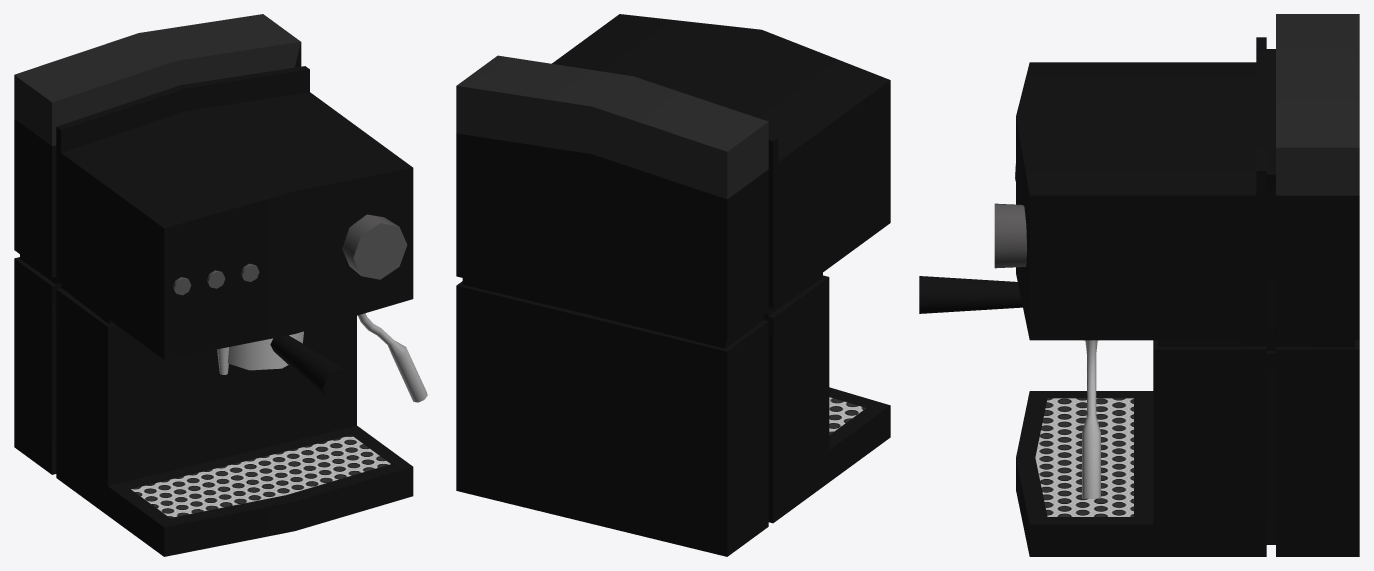
The model's file is CoffeeMachine.fbx.
The picture shows the model from 3 angles, left to right: view 1: azimuth 30°, elevation 25°; view 2: azimuth 150°, elevation 25°; view 3: azimuth 270°, elevation 25°; orthographic projection. The views are drawn at different scales.
Visible parts, largest first — view 1: CoffeeMachine; view 2: CoffeeMachine; view 3: CoffeeMachine.
Part boxes in pixels (box(x1,y1,x2,y2)): CoffeeMachine: box(14, 14, 427, 556); CoffeeMachine: box(456, 14, 890, 556); CoffeeMachine: box(919, 14, 1359, 556).
Bounding box in the file's own units: 32.22 × 40.64 × 38.43.
